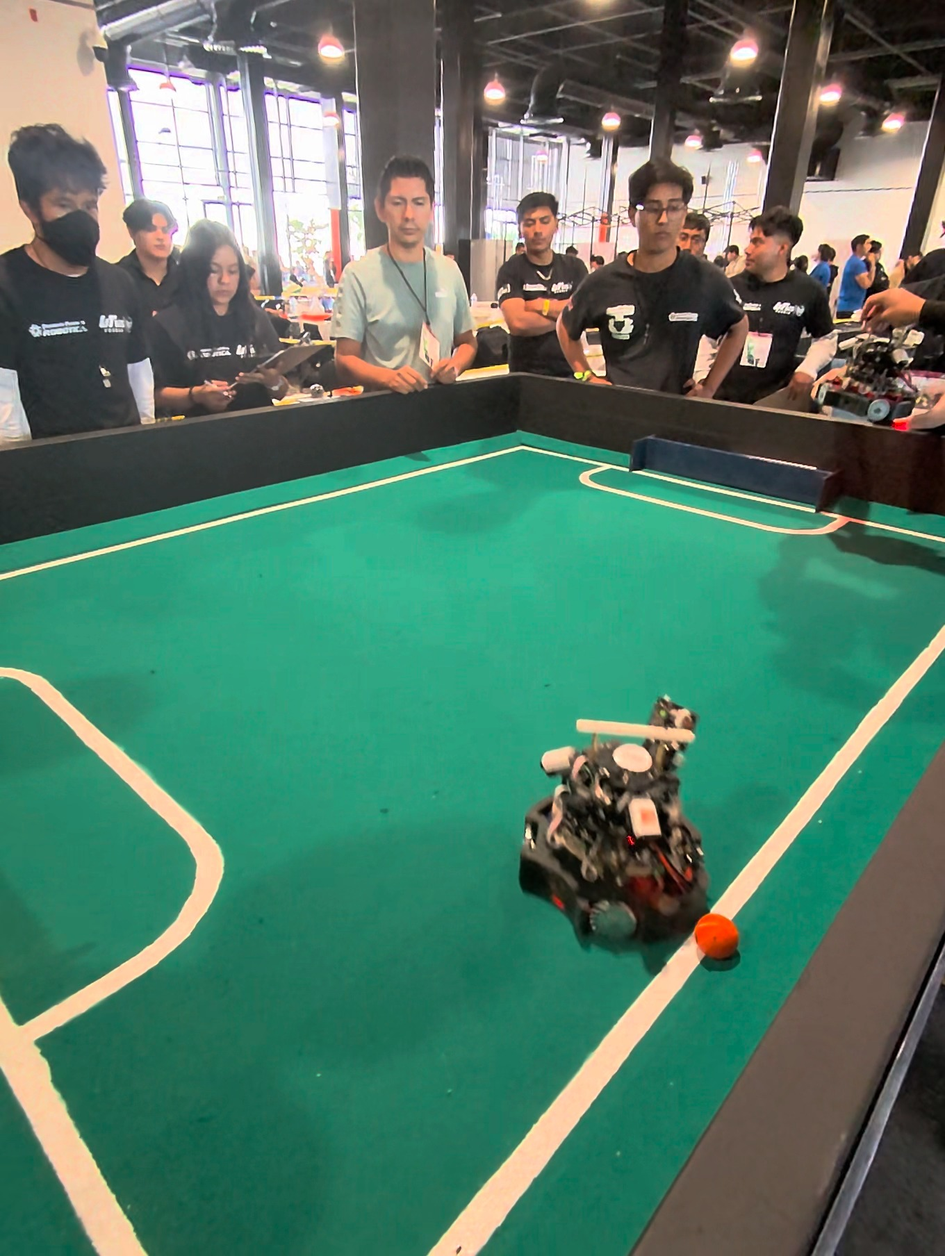Robot: (513, 693, 719, 968)
pelota: (697, 913, 743, 965)
